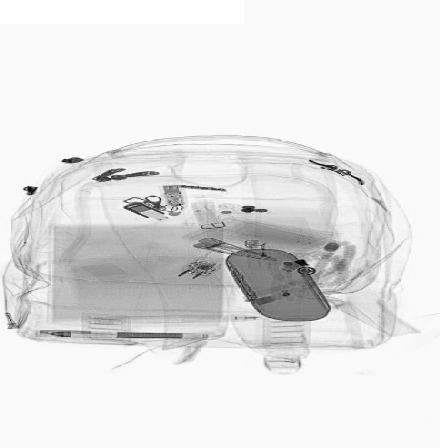Lighter: (241, 239, 271, 270)
